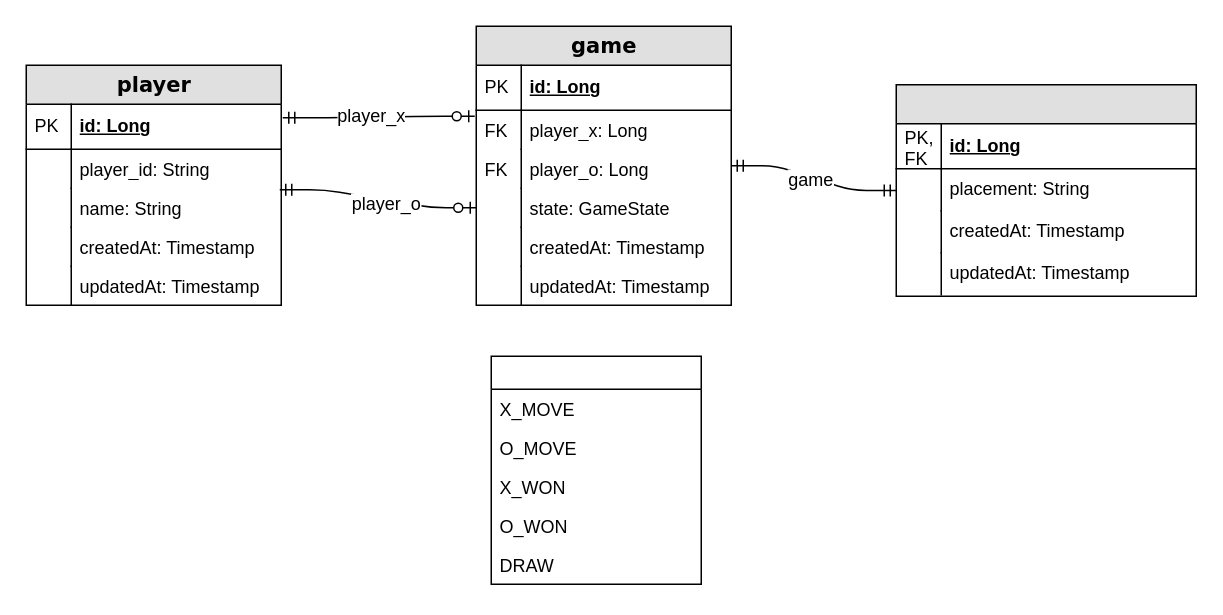
This 1223x615 diagram has some shape labels left out. Each missing label, with the box of its shape:
board: (895, 83, 1196, 296)
GameState: (490, 355, 701, 584)
